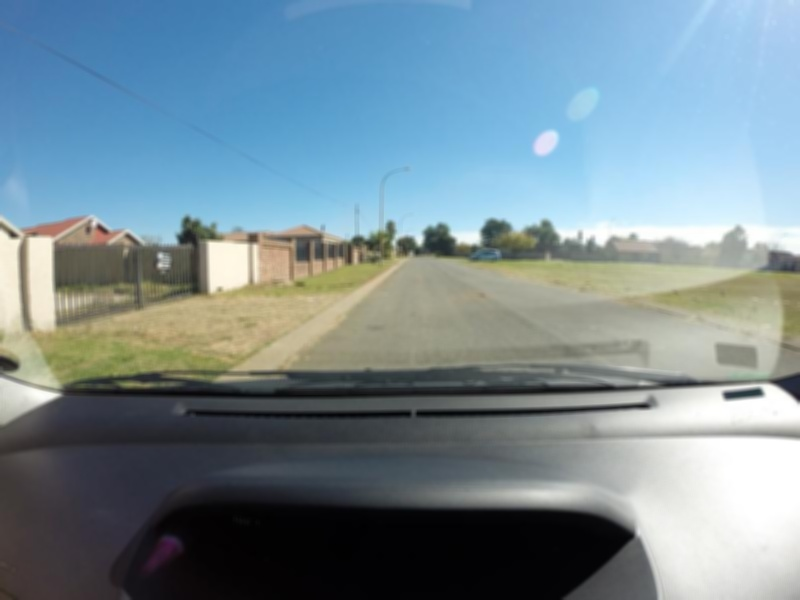pothole: (479, 290, 481, 300)
